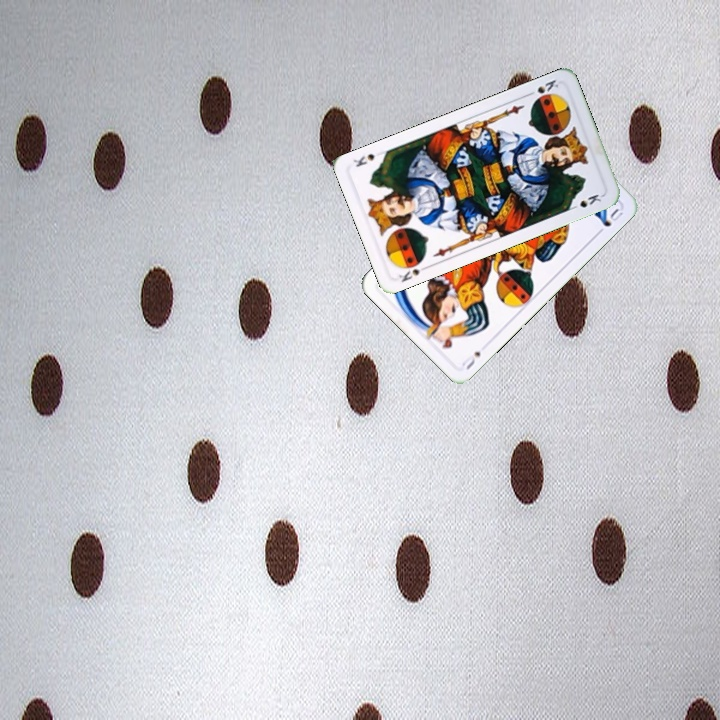SK: (523, 75, 561, 99), (394, 261, 431, 285)
SU: (457, 347, 483, 372)
